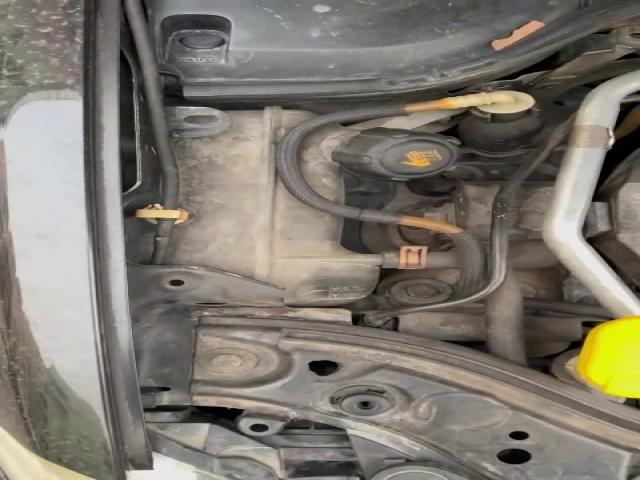antifreeze_tank: (172, 107, 382, 305), (300, 125, 459, 202)
